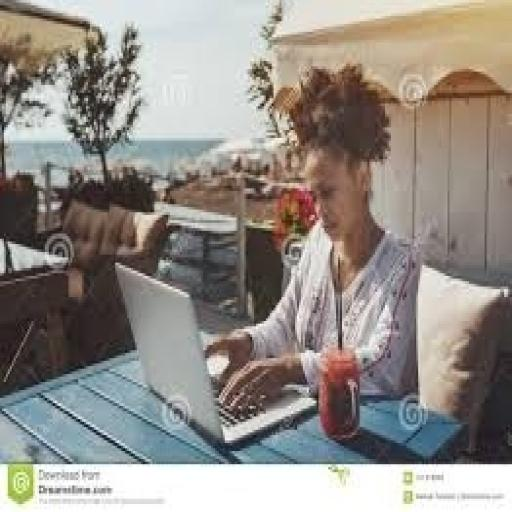using_laptop: (112, 257, 316, 451)
